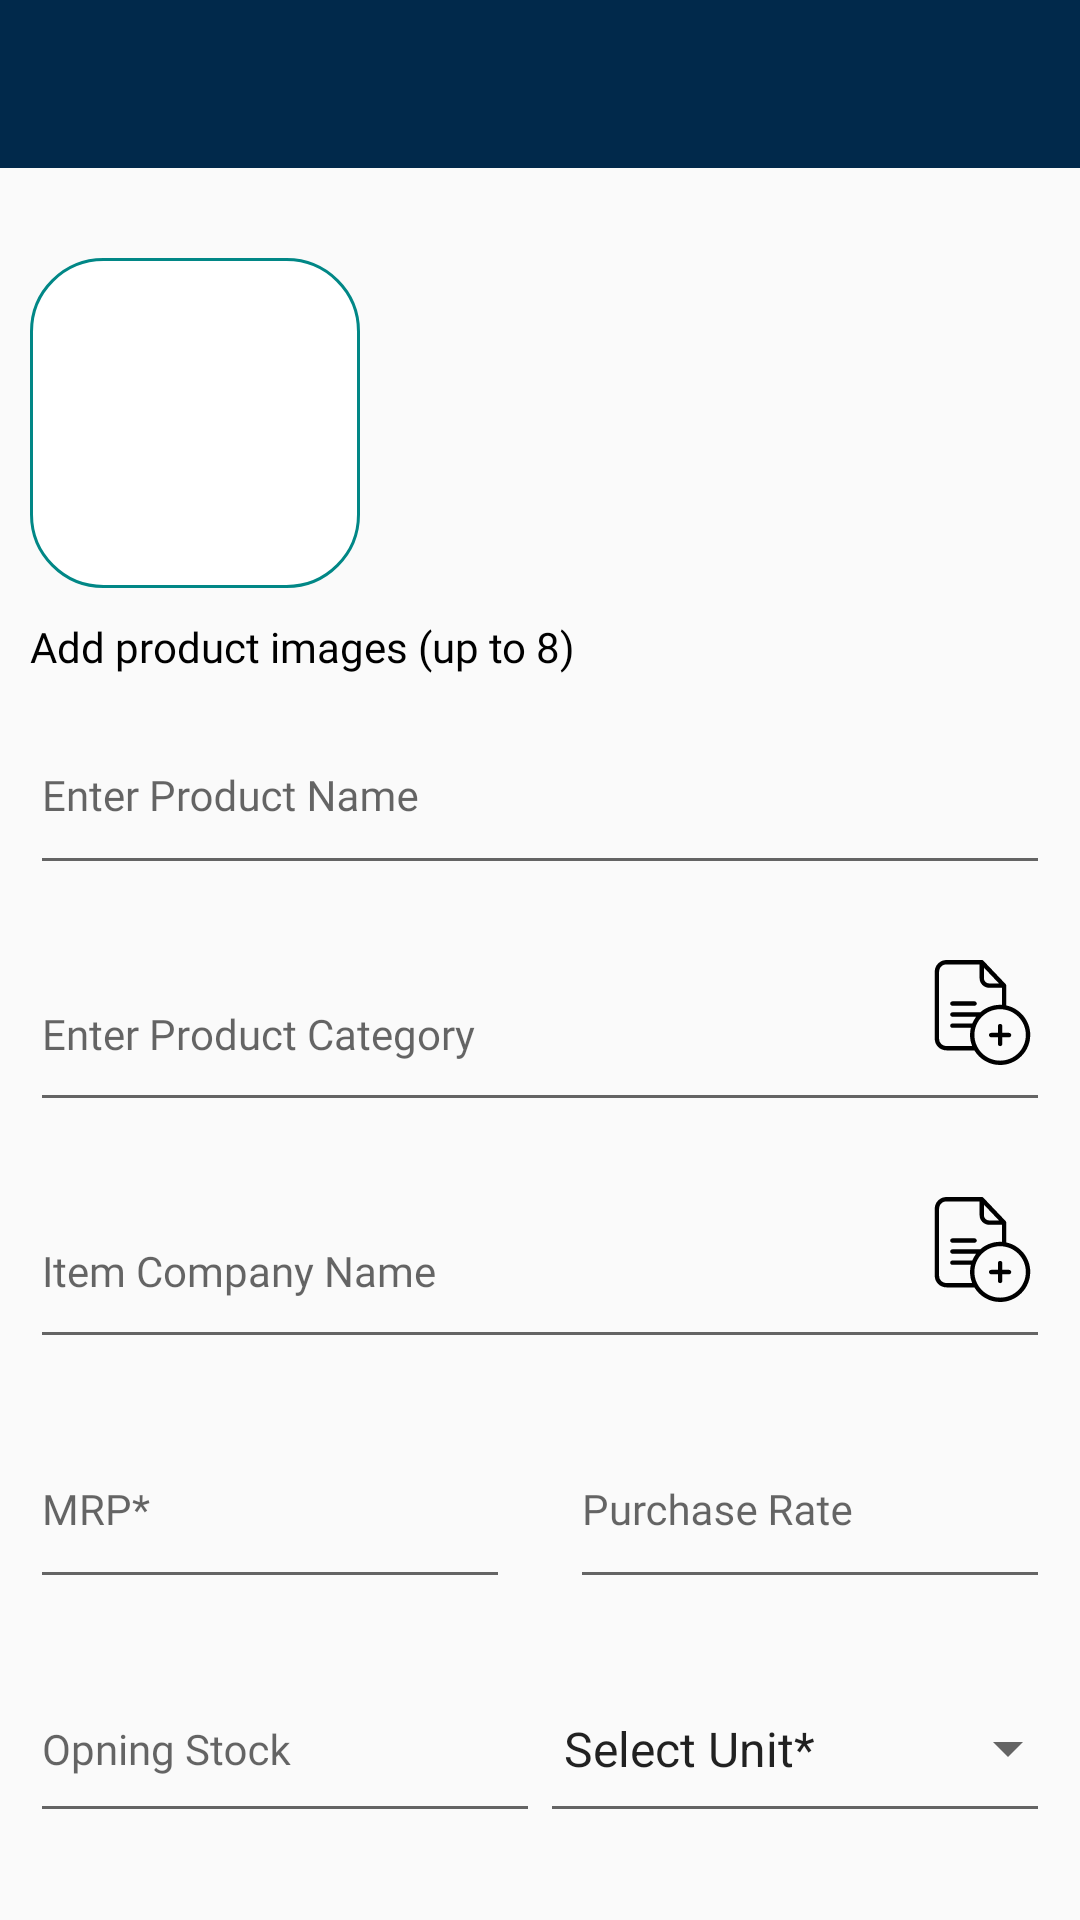

Where to tap for icons on this 1080 × 1920 app screen, as (x=x, y=y):
addfile: (x=982, y=1012), (x=982, y=1249)
